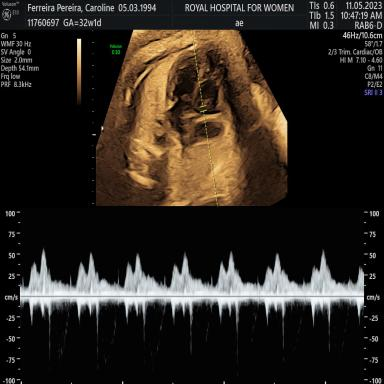Ultrasound-Waves: (27, 217, 360, 384)
